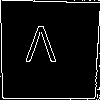V: (24, 25, 57, 72)
